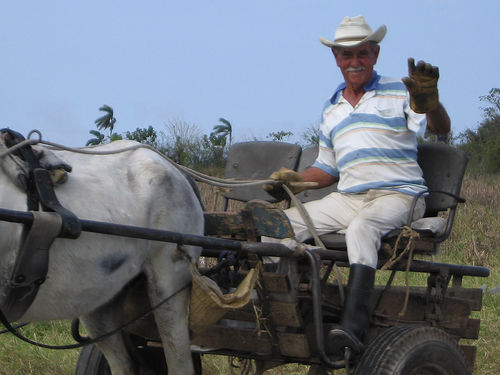horse: (1, 126, 217, 375)
